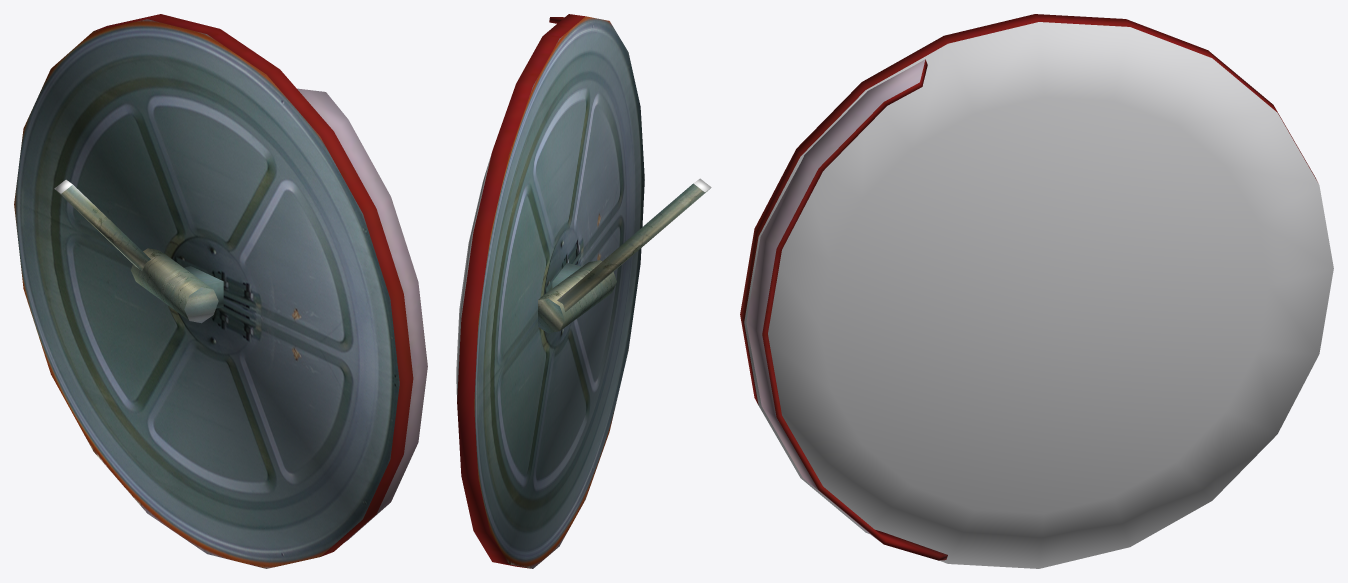
File: RTB1201220926_0336L_02_normalization.obj
3 views of the same model, side by side, from view 1: azimuth 30°, elevation 25°; view 2: azimuth 150°, elevation 25°; view 3: azimuth 270°, elevation 25° (orthographic). The views are drawn at different scales.
Parts seen in each view (by area): view 1: RTB1201220926_0336S_02; view 2: RTB1201220926_0336S_02; view 3: RTB1201220926_0336S_02.
Boxes of the visible parts, x1,y1,x2,y2 form: RTB1201220926_0336S_02: (14,14,427,568); RTB1201220926_0336S_02: (456,14,711,568); RTB1201220926_0336S_02: (740,14,1333,568).
Bounding box in the file's own units: 0.3284 × 0.6733 × 0.6624.
1 material, 1 textured.
